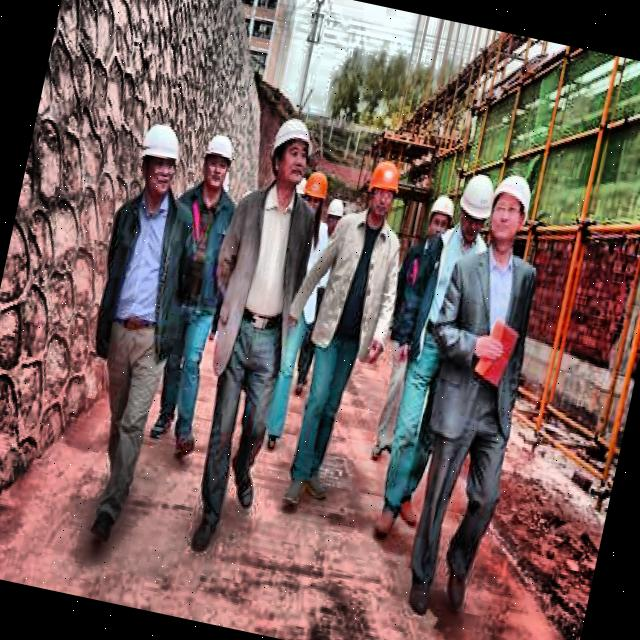helmet: (128, 115, 192, 203), (261, 106, 318, 190), (483, 166, 538, 252), (357, 157, 405, 231), (192, 124, 242, 194), (452, 171, 498, 242), (422, 187, 461, 253), (292, 165, 330, 228), (318, 191, 349, 240)
